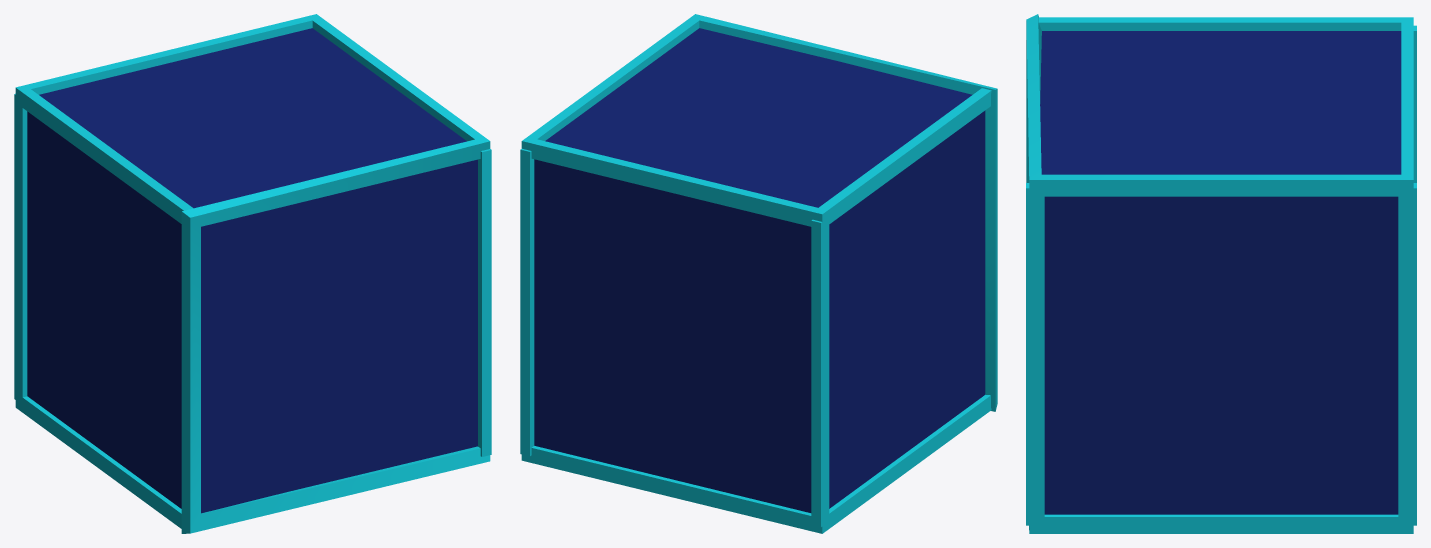
File: Cubo_MApa01.FBX
3 renders of one model, left to right at view 1: azimuth 30°, elevation 25°; view 2: azimuth 150°, elevation 25°; view 3: azimuth 270°, elevation 25°, orthographic. The views are drawn at different scales.
Parts seen in each view (by area): view 1: Box010, Shape015; view 2: Box010, Shape015; view 3: Box010, Shape015.
Part boxes in pixels (x1,y1,x2,y2): Box010: (27,28,477,513); Shape015: (14,14,491,533); Box010: (534,28,985,512); Shape015: (520,14,997,533); Box010: (1040,31,1401,514); Shape015: (1026,14,1416,533).
Size of the model in its own units: 62.75 by 63.5 by 63.
